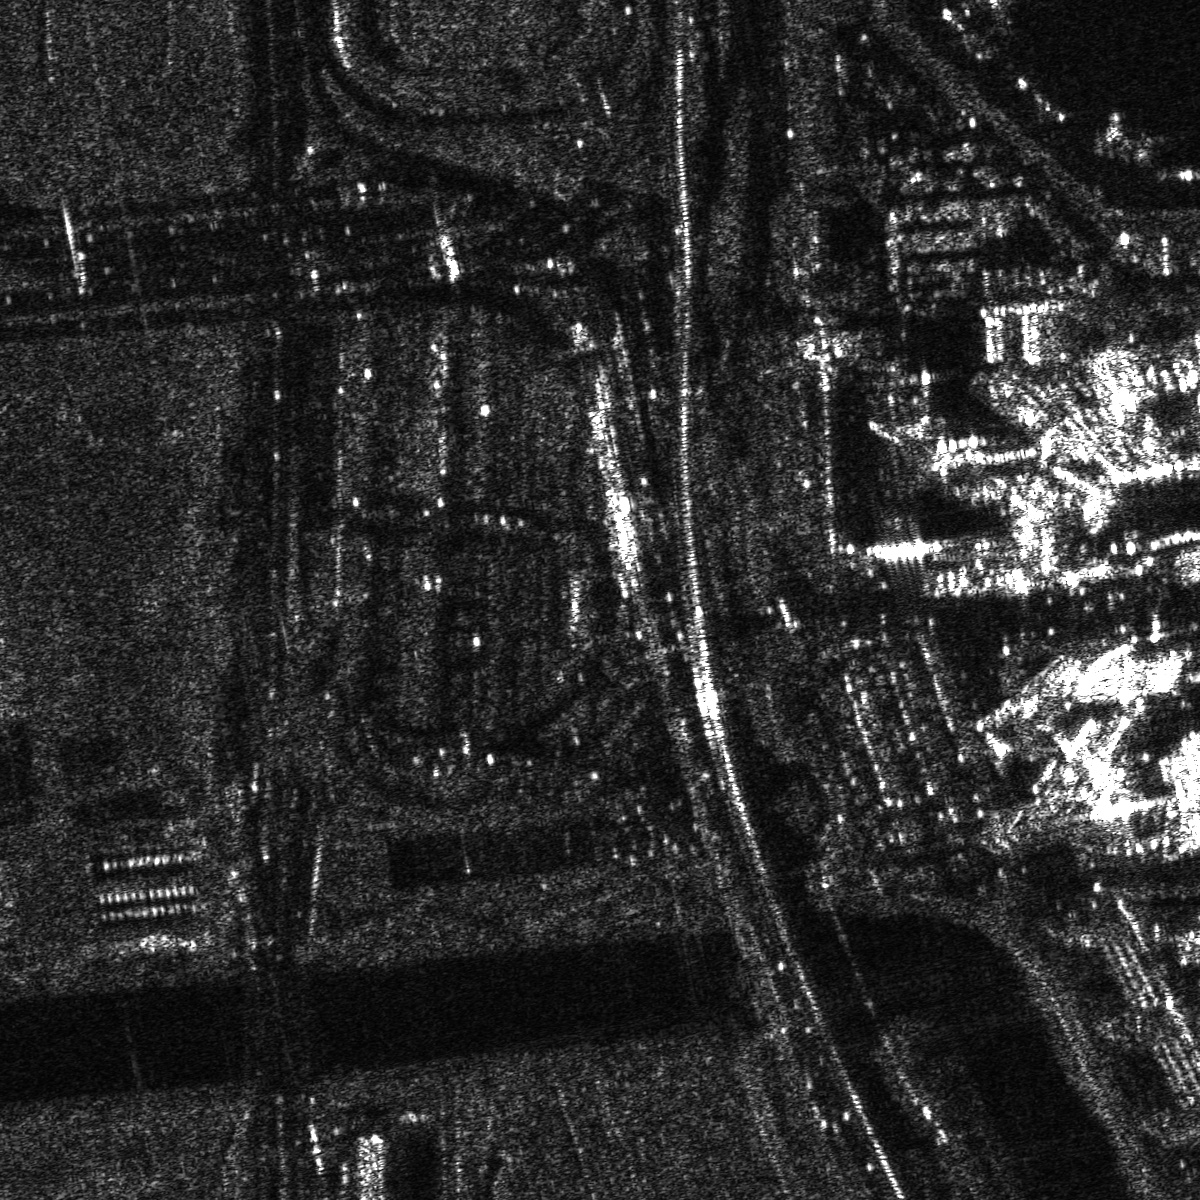A220: (951, 1, 1055, 30)
